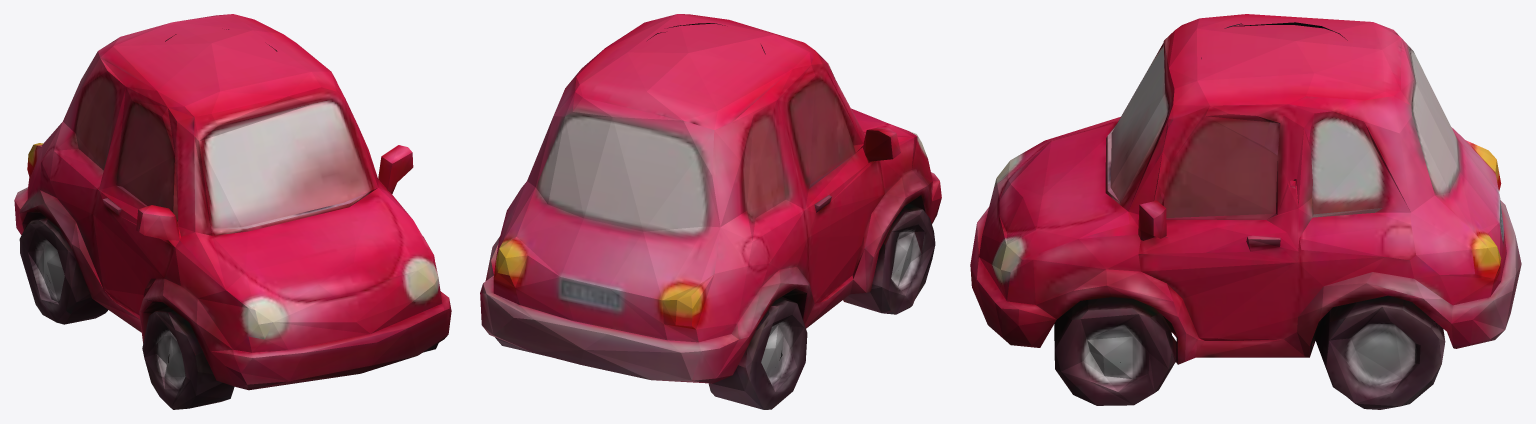
The model's file is car-hatch.glb.
3 views of the same model, side by side, from view 1: azimuth 30°, elevation 25°; view 2: azimuth 150°, elevation 25°; view 3: azimuth 270°, elevation 25° (orthographic). The views are drawn at different scales.
Parts seen in each view (by area): view 1: geometry_0; view 2: geometry_0; view 3: geometry_0.
Part boxes in pixels (x1,y1,x2,y2): geometry_0: [14, 14, 451, 409]; geometry_0: [480, 14, 941, 409]; geometry_0: [970, 14, 1521, 409].
Size of the model in its own units: 0.6284 by 0.6103 by 0.9968.
1 material, 1 textured.
